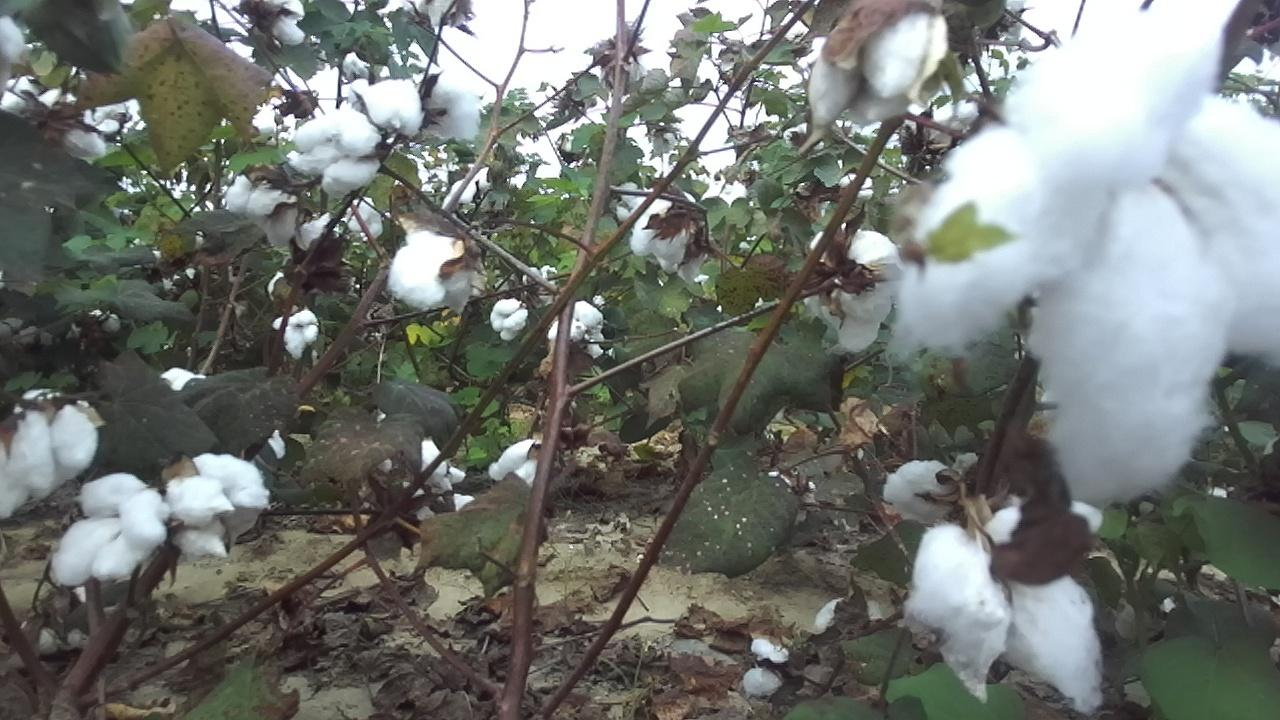cotton_ready: (882, 7, 1278, 506), (881, 455, 1108, 715), (807, 2, 949, 125), (800, 220, 908, 353), (47, 473, 168, 588), (0, 387, 100, 521), (164, 450, 272, 561), (223, 166, 332, 258), (285, 102, 383, 197), (353, 77, 481, 144), (386, 230, 488, 313), (630, 192, 707, 282)
